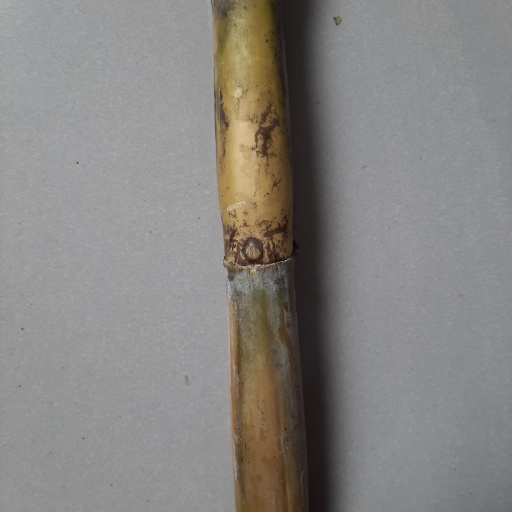Bud: (241, 235, 264, 266)
